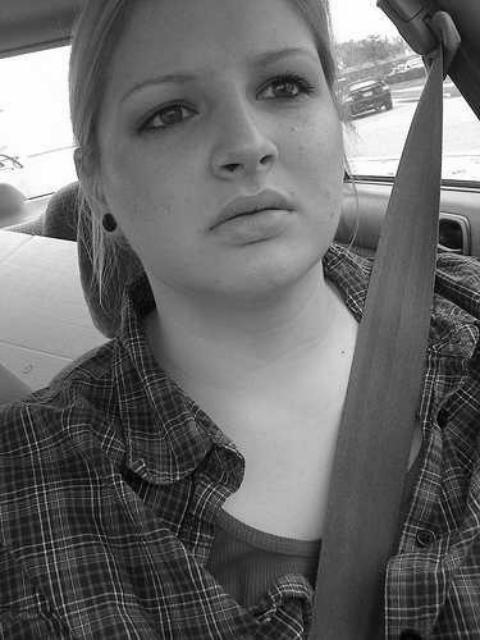SafeDriving: (126, 84, 214, 143), (244, 58, 326, 114)
Seatbelt: (302, 0, 464, 640)
